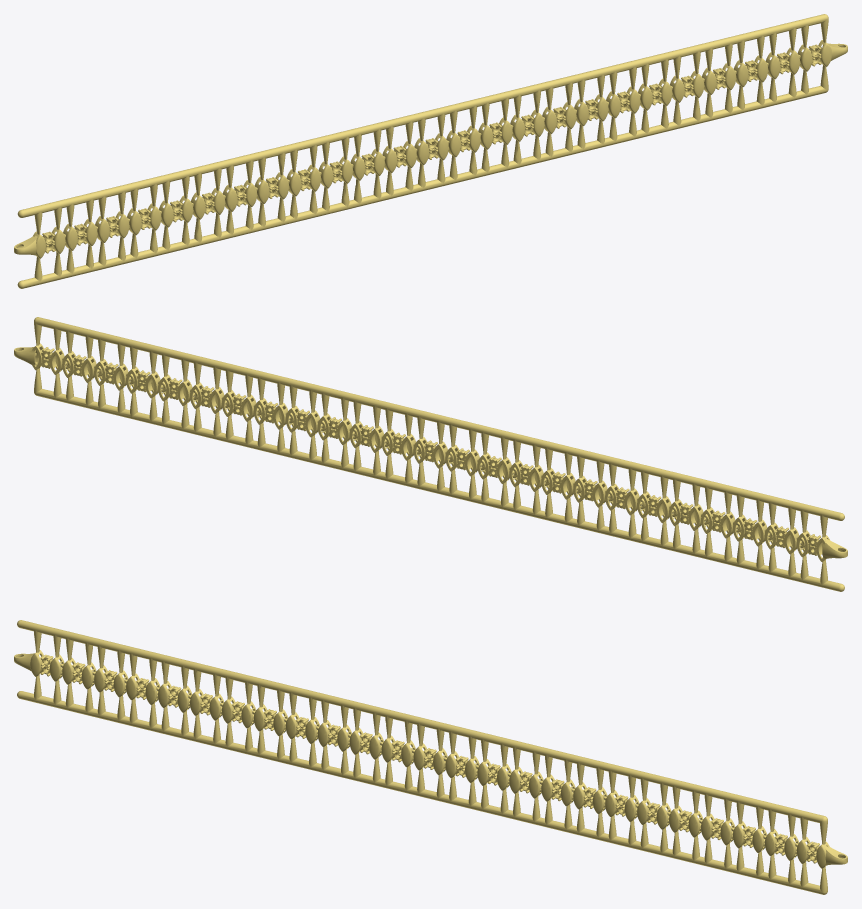
The model's file is yzn5-90_2.glb.
3 renders of one model, top to bottom at view 1: azimuth 30°, elevation 25°; view 2: azimuth 150°, elevation 25°; view 3: azimuth 330°, elevation 25°, orthographic.
Visible parts, largest first — view 1: Renderer Node; view 2: Renderer Node; view 3: Renderer Node.
Part boxes in pixels (x1,y1,x2,y2): Renderer Node: [14, 14, 847, 288]; Renderer Node: [14, 317, 847, 591]; Renderer Node: [14, 620, 847, 894].
Bounding box in the file's own units: 176 × 15.83 × 2.63.
